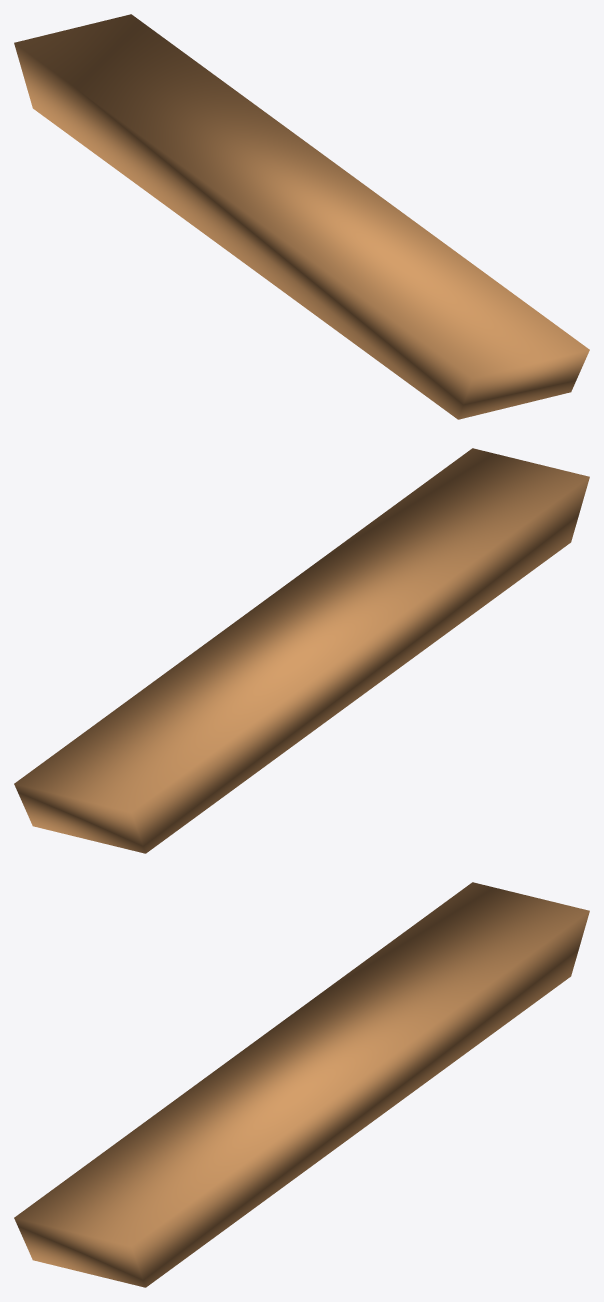
File: boat_bank.fbx
The picture shows the model from 3 angles, top to bottom: view 1: azimuth 30°, elevation 25°; view 2: azimuth 150°, elevation 25°; view 3: azimuth 330°, elevation 25°; orthographic projection.
Visible parts, largest first — view 1: boat_bank; view 2: boat_bank; view 3: boat_bank.
Part boxes in pixels (bbox=[...]): boat_bank: bbox=[14, 14, 589, 419]; boat_bank: bbox=[14, 448, 589, 853]; boat_bank: bbox=[14, 882, 589, 1287].
Size of the model in its own units: 23.77 by 10.45 by 161.
